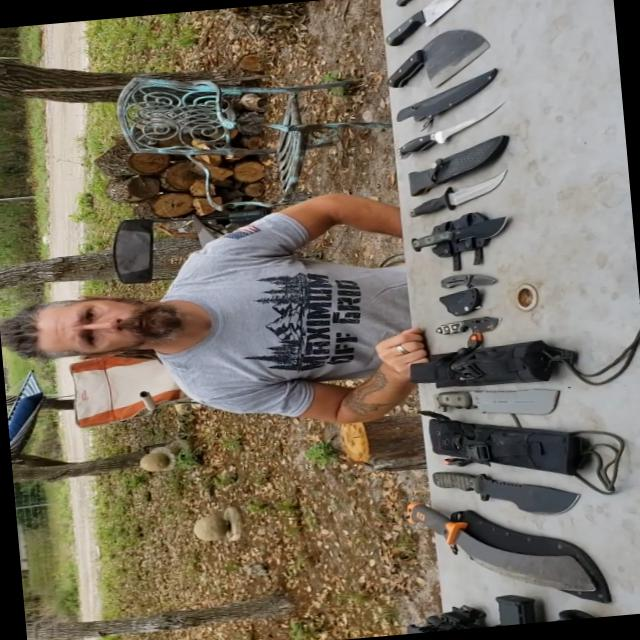knife: (396, 488, 609, 608), (408, 448, 594, 525), (415, 361, 593, 432), (370, 96, 520, 170), (360, 24, 501, 100), (368, 0, 498, 56), (382, 171, 524, 219), (382, 209, 516, 256), (430, 254, 510, 296), (419, 306, 519, 338)
